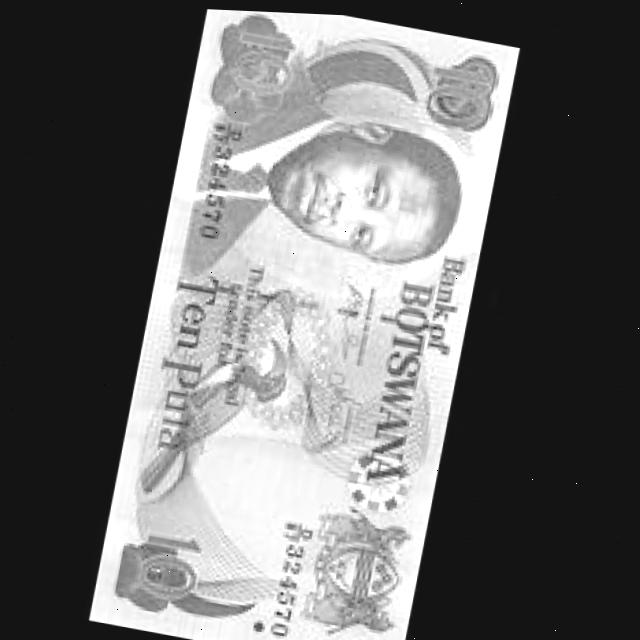banknote: (97, 4, 523, 640)
